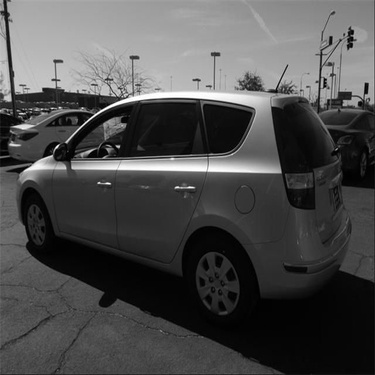car: (11, 83, 359, 321), (10, 108, 107, 163), (318, 100, 371, 186), (1, 103, 26, 135)
